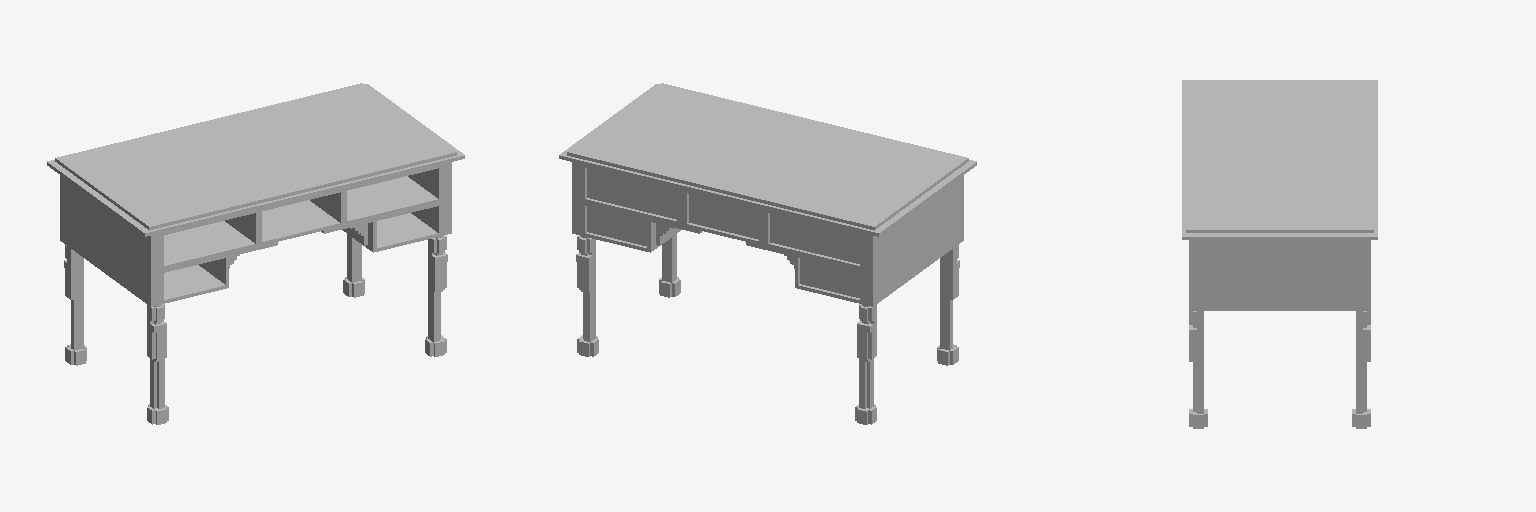
The model's file is bureau Prof-5.obj.
3 renders of one model, left to right at view 1: azimuth 30°, elevation 25°; view 2: azimuth 150°, elevation 25°; view 3: azimuth 270°, elevation 25°, orthographic.
Parts seen in each view (by area): view 1: object 1; view 2: object 1; view 3: object 1.
Part boxes in pixels (x1,y1,x2,y2): object 1: (47,83,464,424); object 1: (559,83,976,424); object 1: (1182,80,1377,428).
Size of the model in its own units: 9.8 by 5.9 by 5.2.